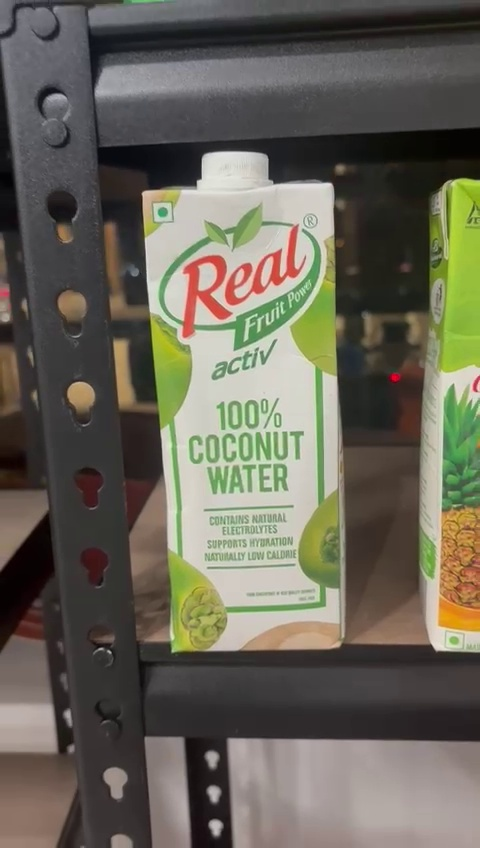Coconut water: (140, 154, 344, 654)
